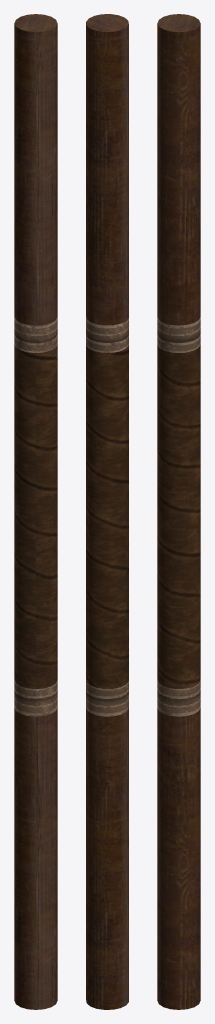
Rendered from dunland_caerdh_short_spear_handle_b.fbx.
3 views of the same model, side by side, from view 1: azimuth 90°, elevation 25°; view 2: azimuth 150°, elevation 25°; view 3: azimuth 270°, elevation 25° (orthographic).
Parts seen in each view (by area): view 1: dunland_caerdh_short_spear_handle_b; view 2: dunland_caerdh_short_spear_handle_b; view 3: dunland_caerdh_short_spear_handle_b.
Boxes of the visible parts, box(x1,y1,x2,y2) form: dunland_caerdh_short_spear_handle_b: box(14, 14, 57, 1009); dunland_caerdh_short_spear_handle_b: box(86, 14, 128, 1009); dunland_caerdh_short_spear_handle_b: box(157, 14, 200, 1009).
Bounding box in the file's own units: 0.04 × 0.04 × 1.
Materials: 1 (1 with a texture image).
